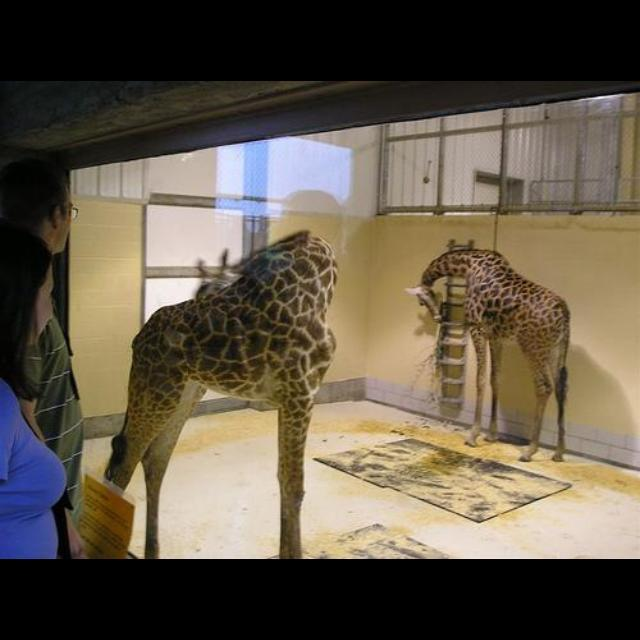giraffe: (105, 230, 343, 552), (406, 250, 568, 460)
person: (0, 159, 88, 559), (0, 228, 70, 558)
